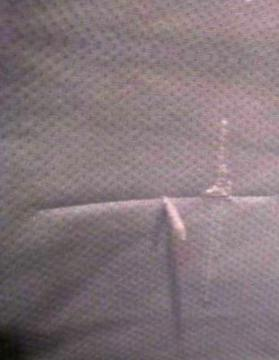snag: (144, 184, 201, 248)
